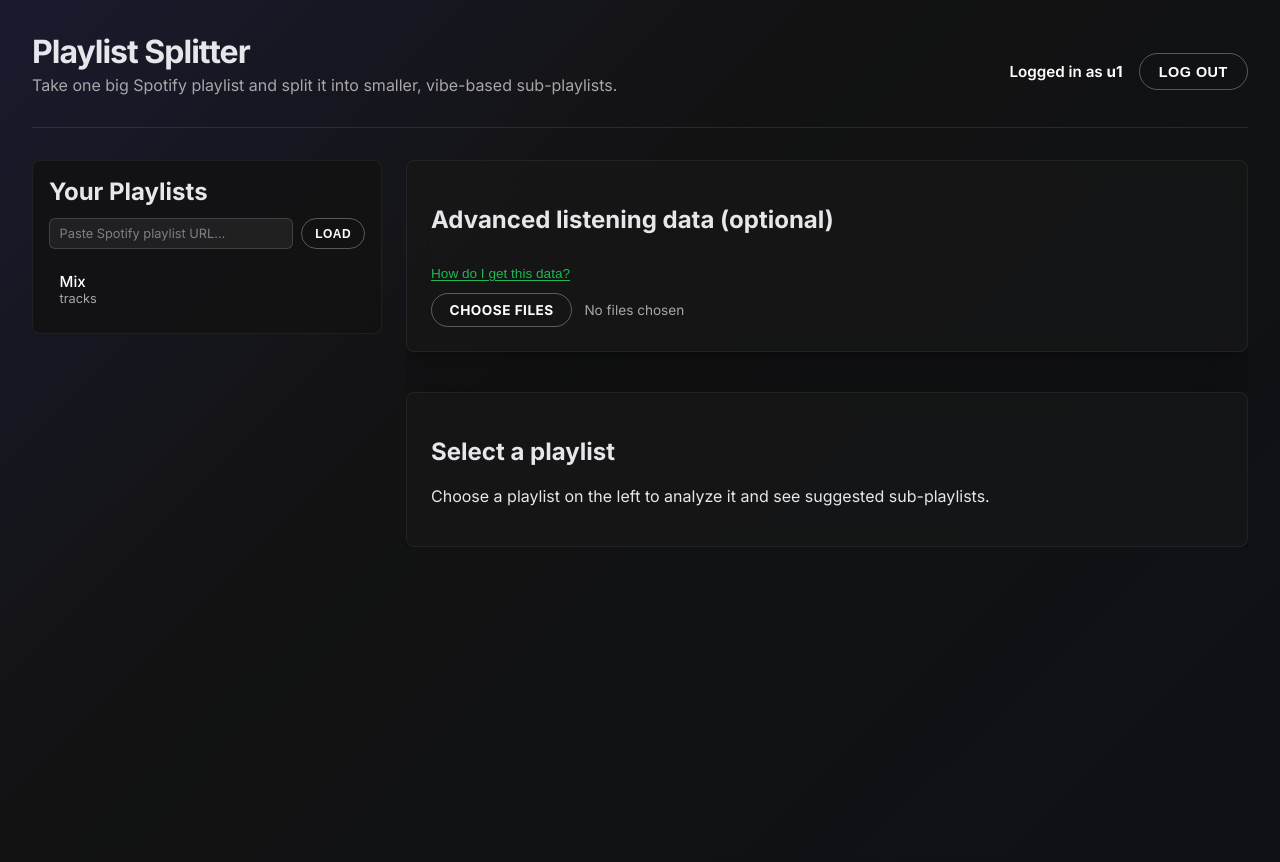
Quota UI › on 429 quota-exhausted, shows the quota banner and disables the refresh button
Click the text "Mix". click: point(73, 282)
box: [60,272,86,291]
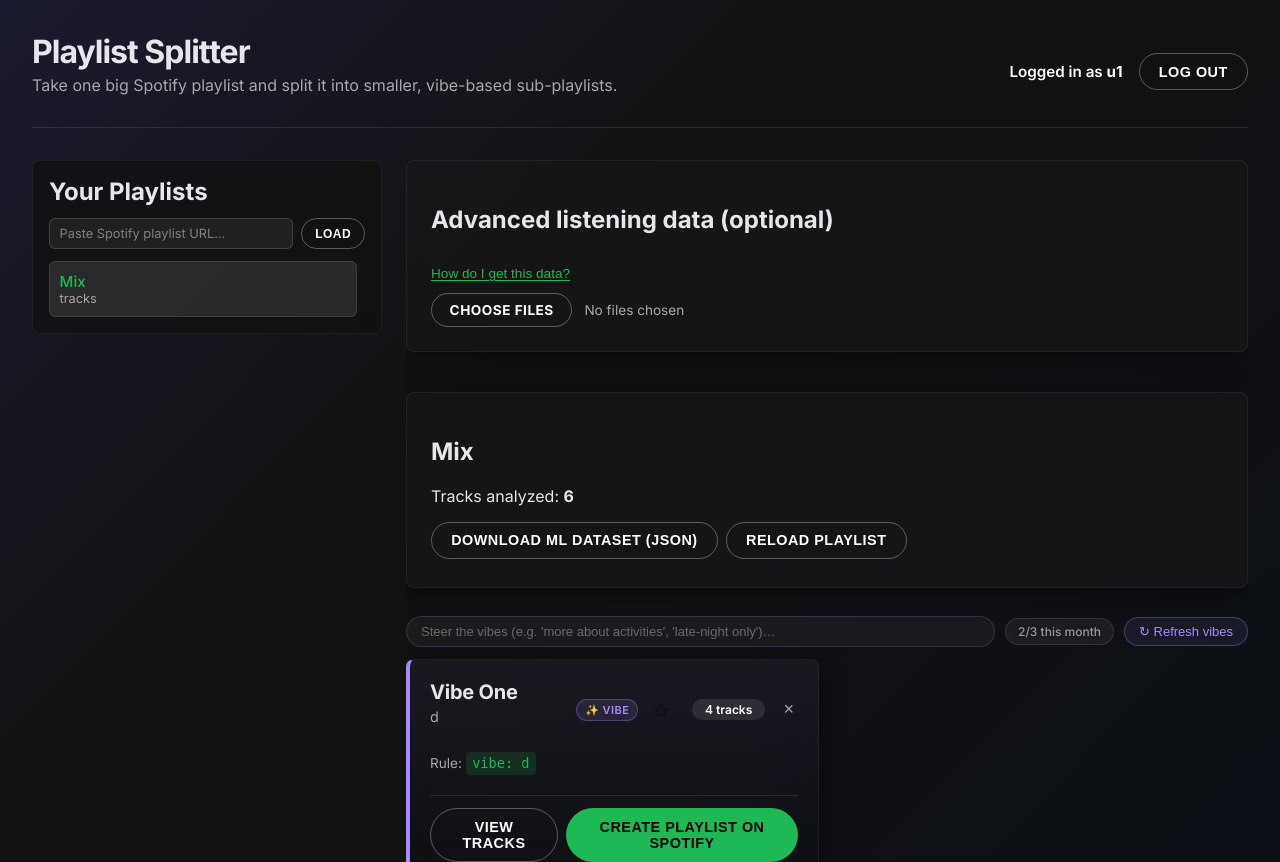
Now the heading "Vibe One" is shown, box [430,680,518,705]
Now the button "↻ Refresh vibes" is enabled
Click the button "↻ Refresh vibes". click: point(1186, 631)
box: [1124,617,1248,646]
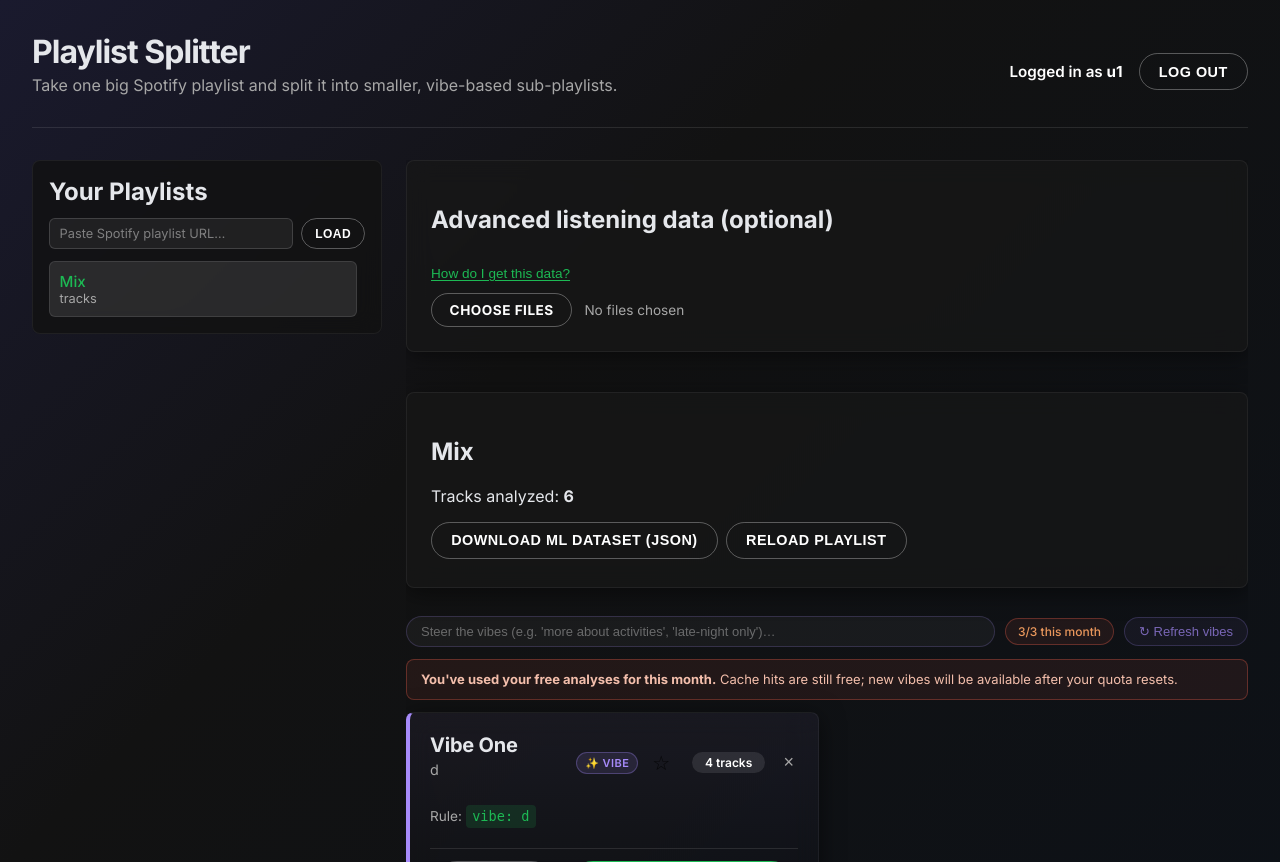
Now the text "You've used your free analyses for this month." is shown, box [421,671,716,687]
Now the text "3/3 this month" is shown, box [1005,618,1114,645]
Now the button "↻ Refresh vibes" is disabled, box [1124,617,1248,646]
